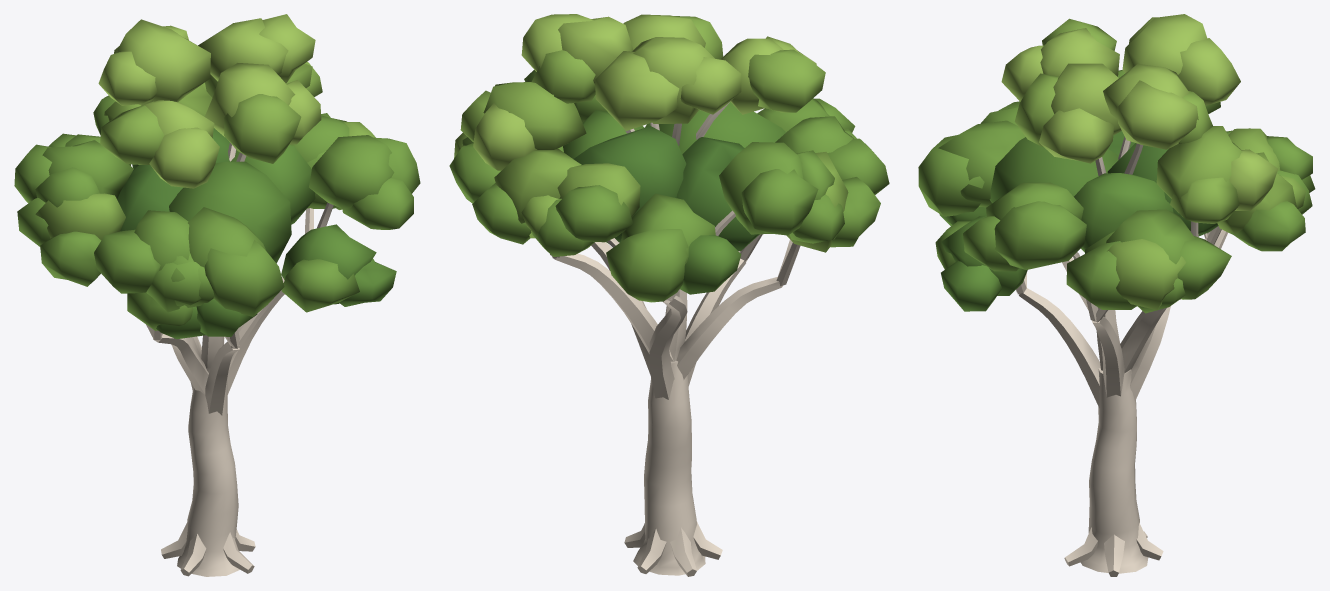
Rendered from oak.glb.
3 renders of one model, left to right at view 1: azimuth 30°, elevation 25°; view 2: azimuth 150°, elevation 25°; view 3: azimuth 270°, elevation 25°, orthographic. The views are drawn at different scales.
Visible parts, largest first — view 1: oak; view 2: oak; view 3: oak.
Boxes of the visible parts, x1,y1,x2,y2 form: oak: (14, 14, 420, 576); oak: (449, 14, 889, 576); oak: (918, 14, 1315, 576).
Bounding box in the file's own units: 5.27 × 7.35 × 5.04.
